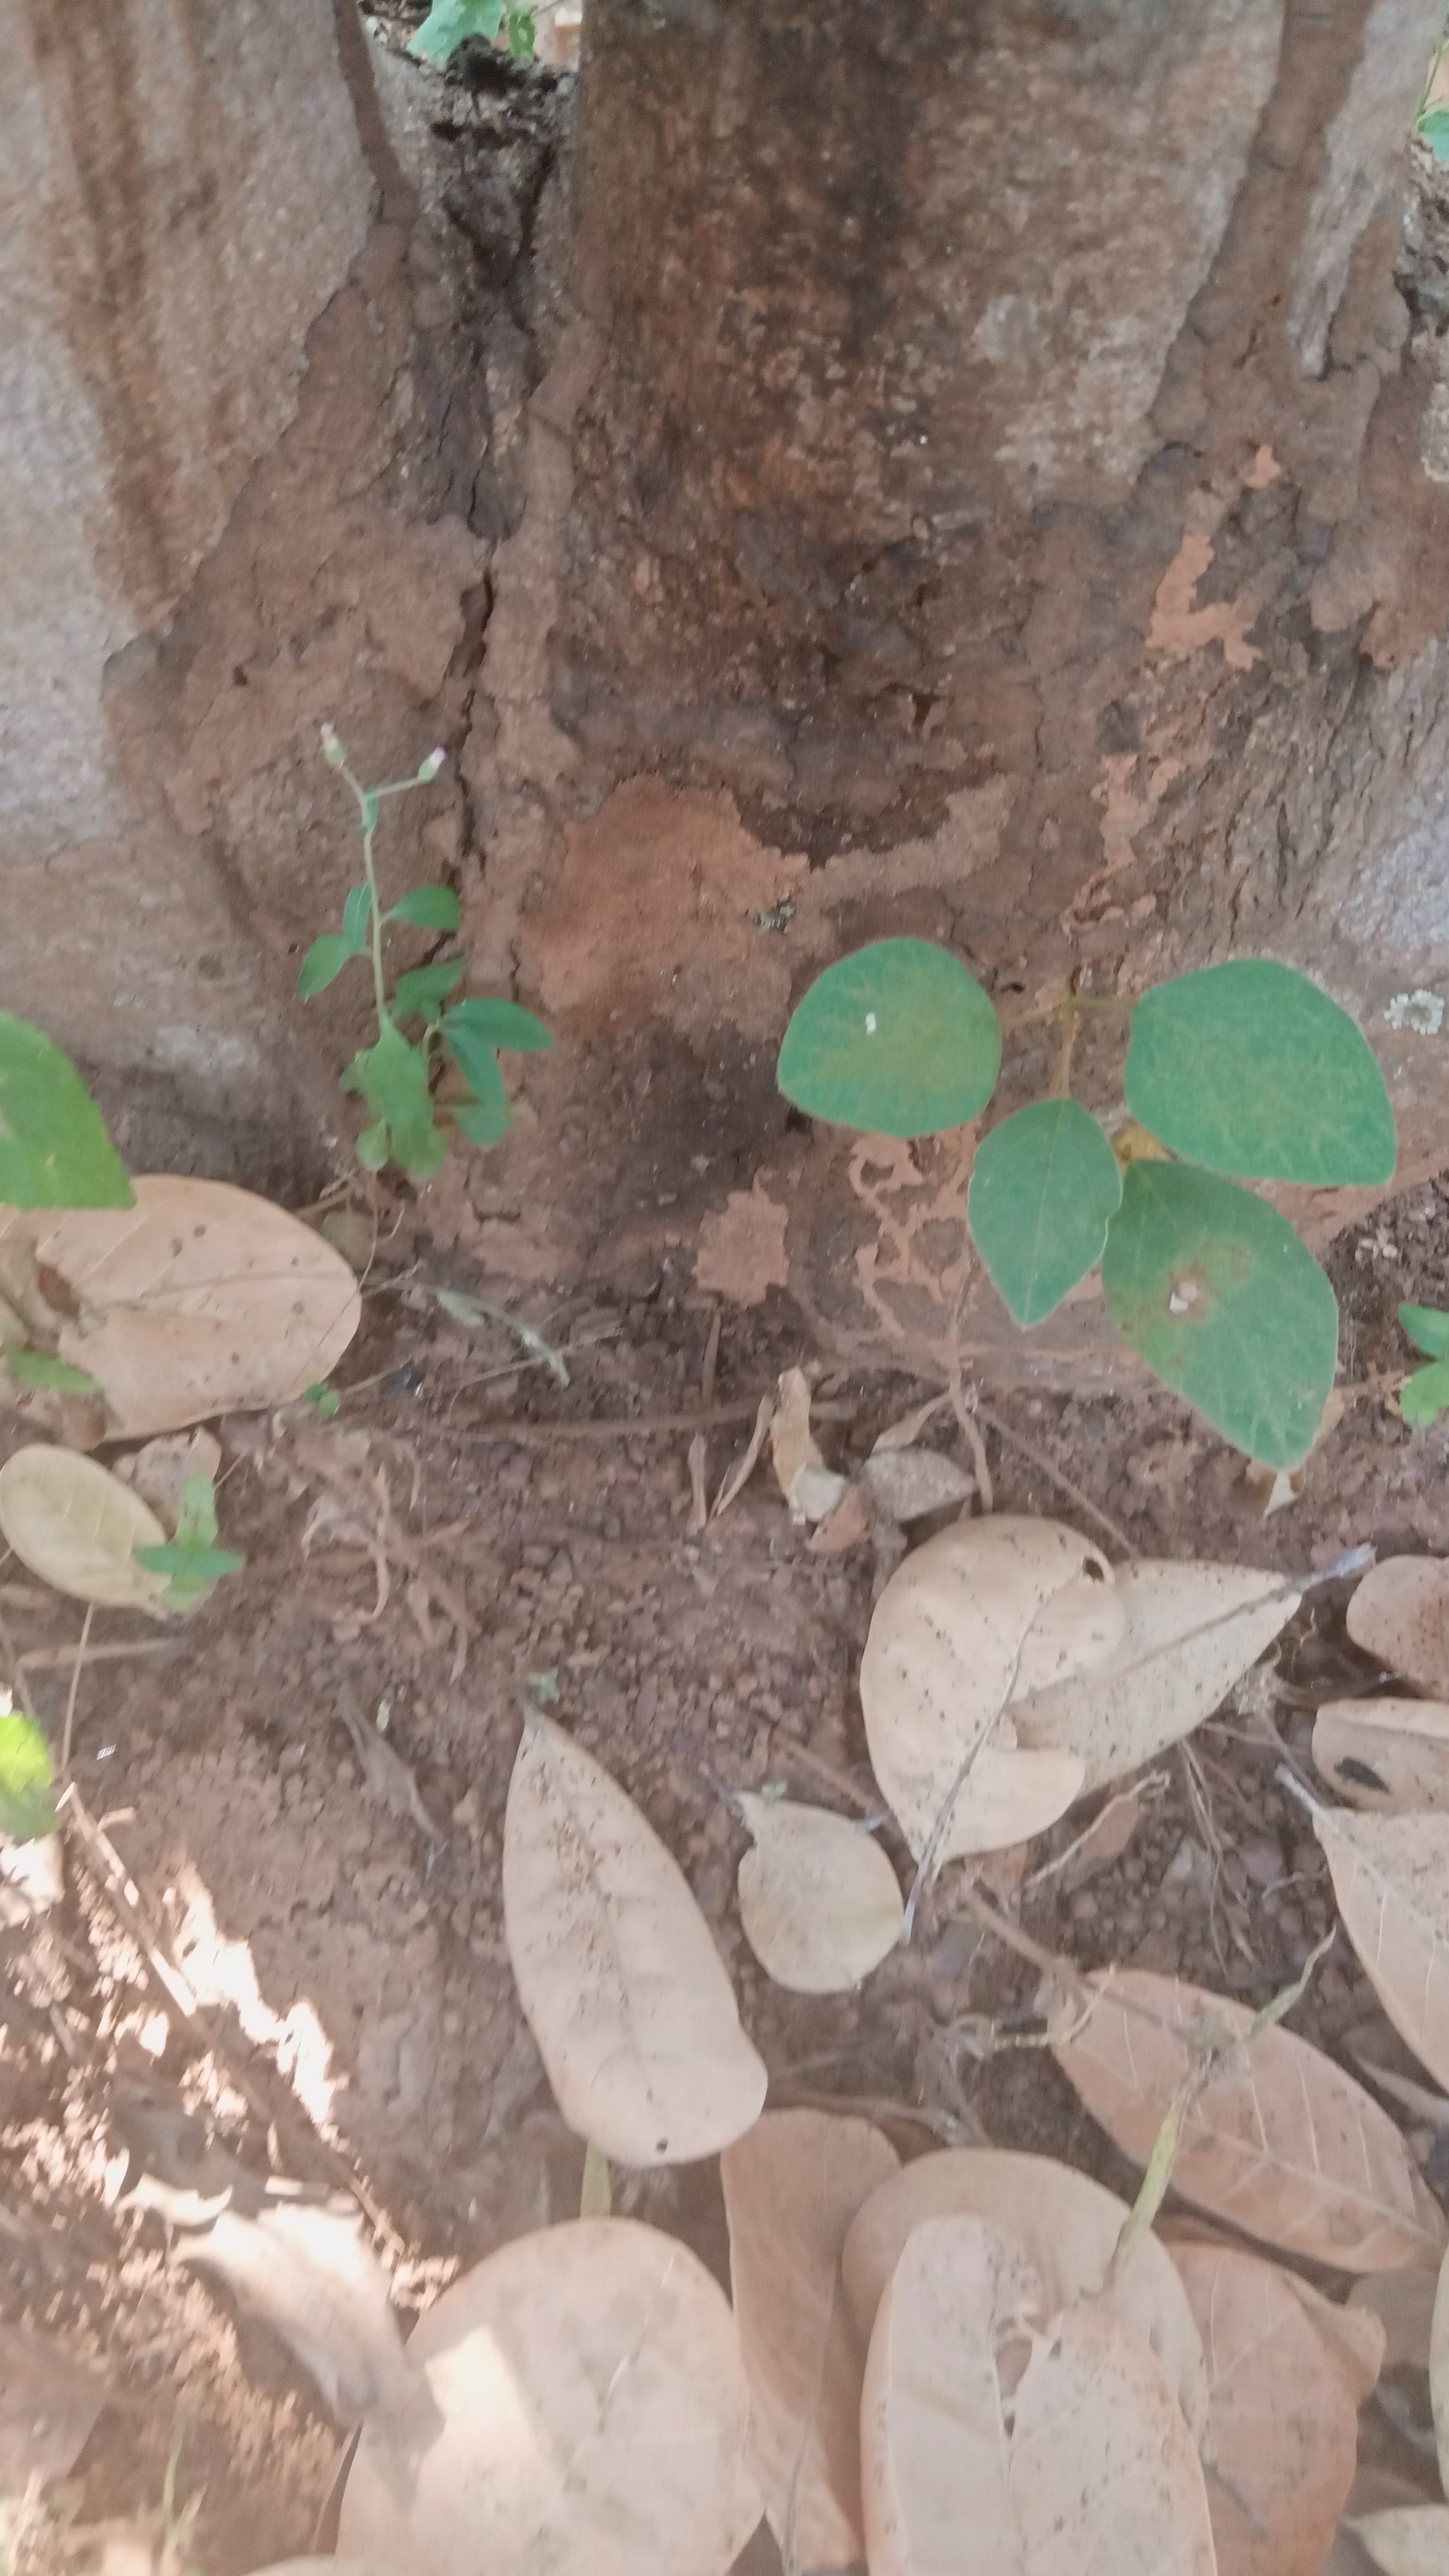Termites: (154, 230, 685, 897), (729, 430, 1123, 989), (1175, 58, 1449, 685)
